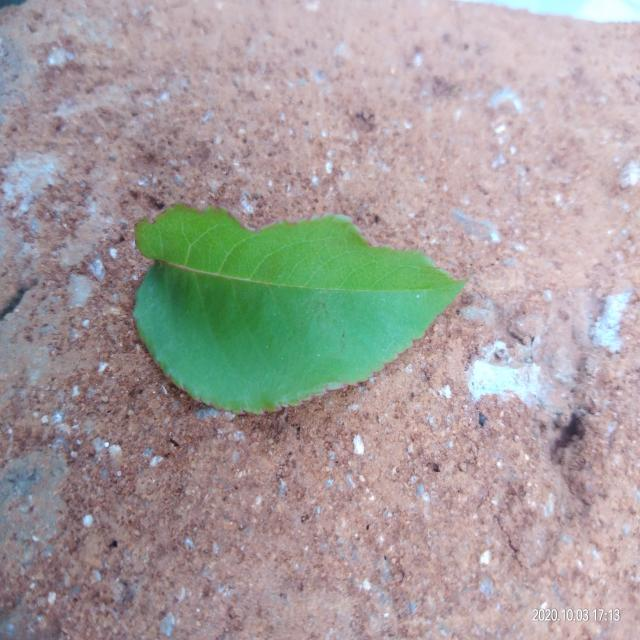rose: (134, 205, 464, 413)
